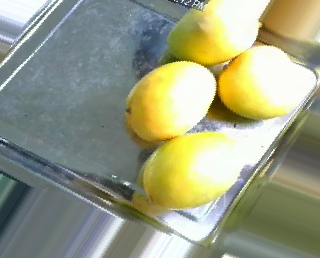Mango: (138, 129, 239, 209), (125, 59, 220, 140), (213, 45, 308, 119), (159, 0, 260, 62)
